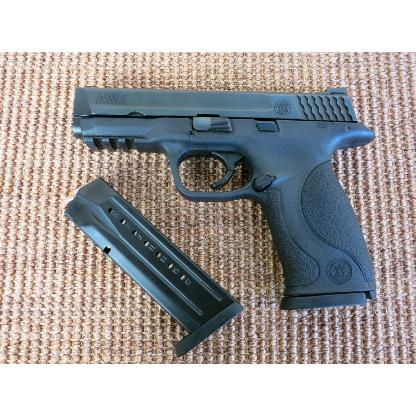gun: (70, 85, 376, 309)
